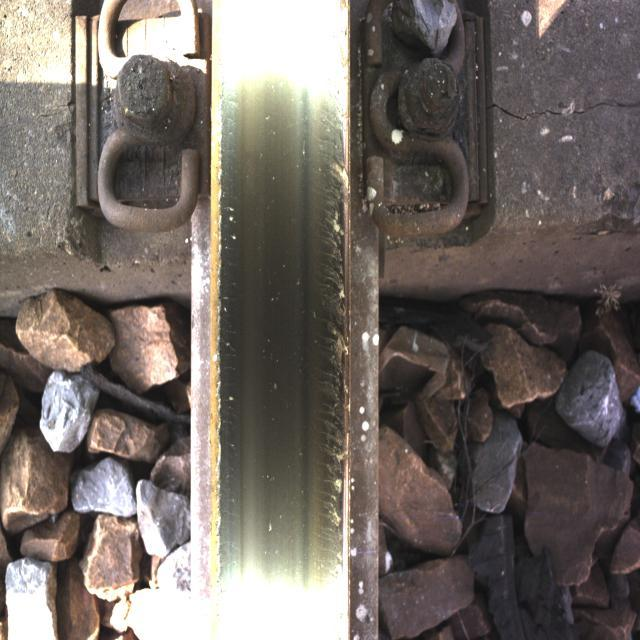scar: (278, 75, 358, 587)
